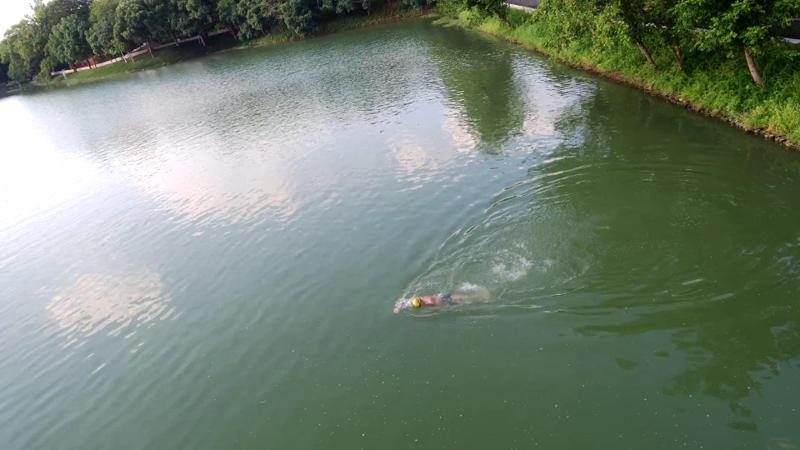swimmers: (392, 291, 488, 314)
